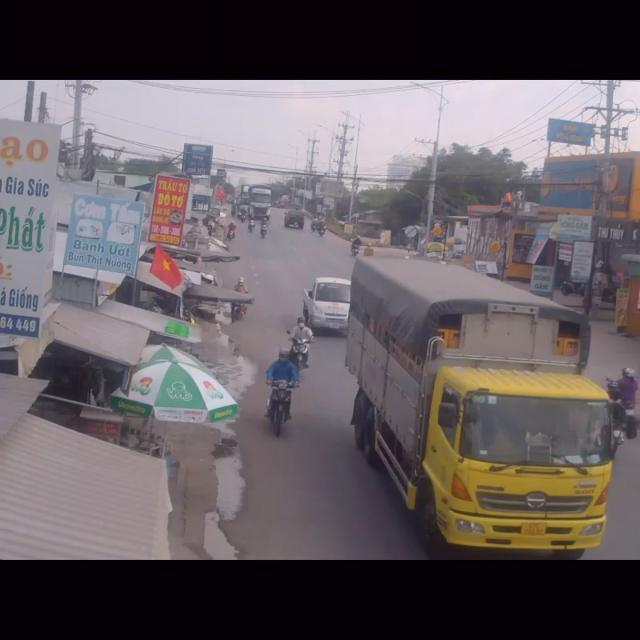car: (304, 274, 352, 339)
motorbike: (264, 345, 300, 441), (611, 359, 640, 446), (286, 314, 314, 368)
truck: (340, 249, 618, 559)
